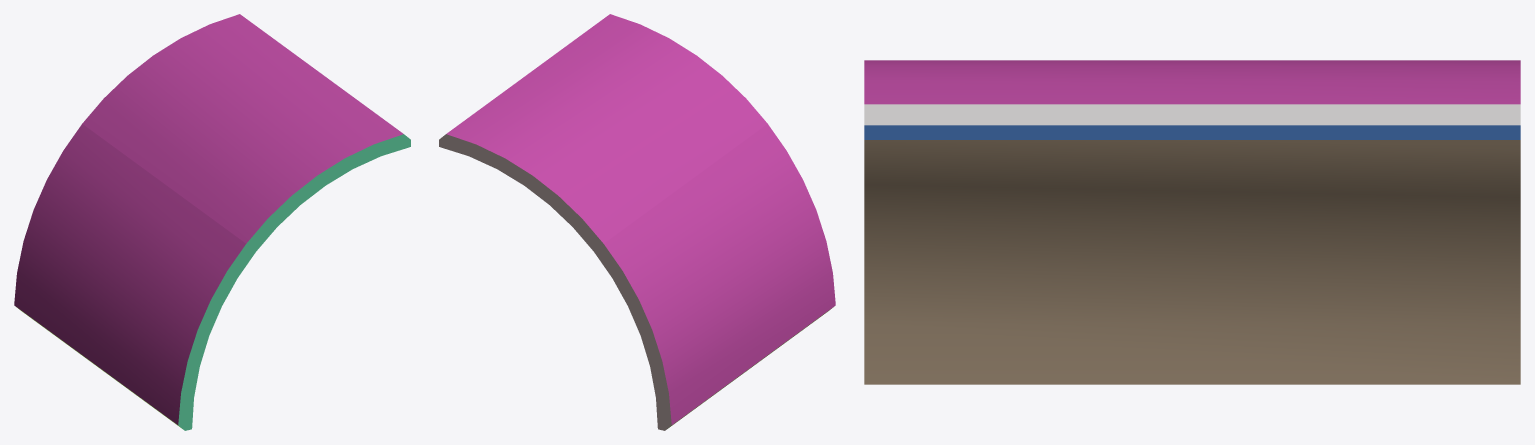
Rendered from module-shield-01.glb.
The picture shows the model from 3 angles, left to right: view 1: azimuth 30°, elevation 25°; view 2: azimuth 150°, elevation 25°; view 3: azimuth 270°, elevation 25°; orthographic projection. The views are drawn at different scales.
Size of the model in its own units: 1.17 by 1.17 by 1.43.
